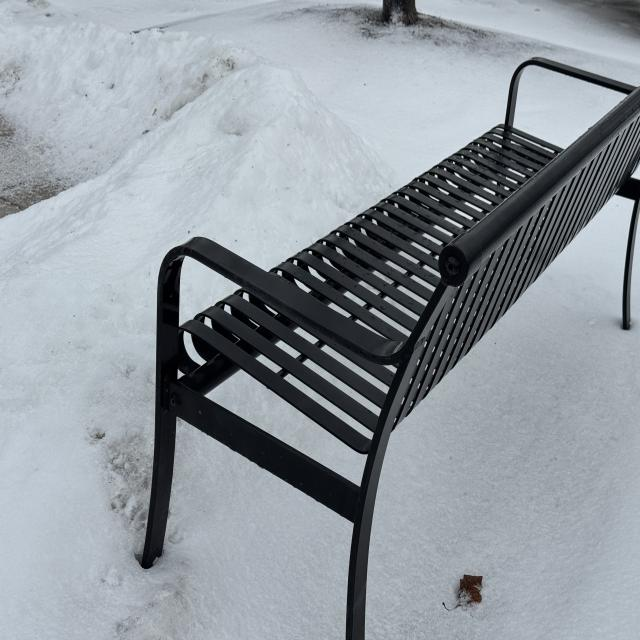Bench: (140, 56, 638, 636)
